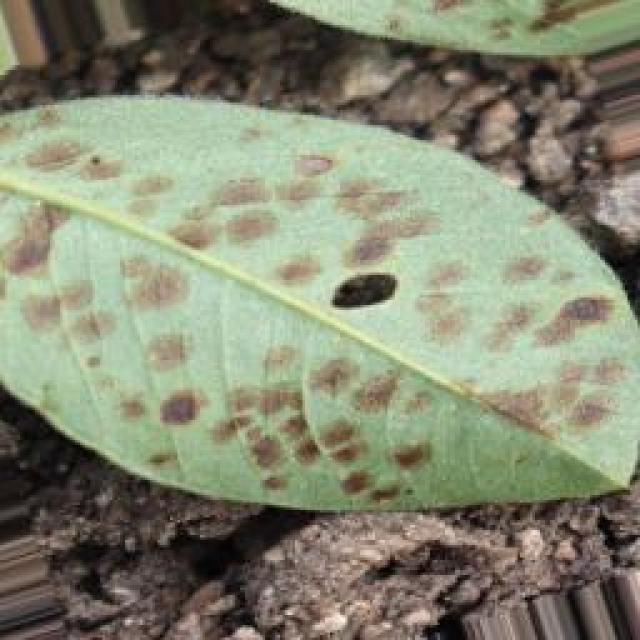Whitefly: (10, 32, 640, 498)
